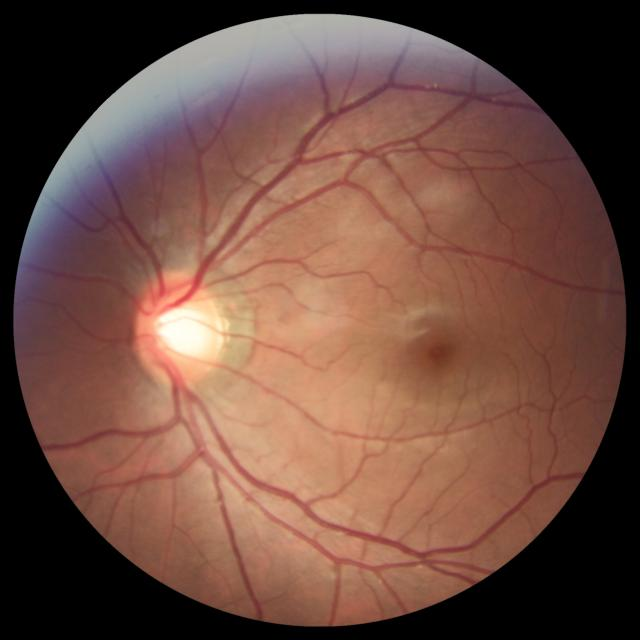OC: (154, 302, 210, 357)
OD: (135, 277, 224, 385)
